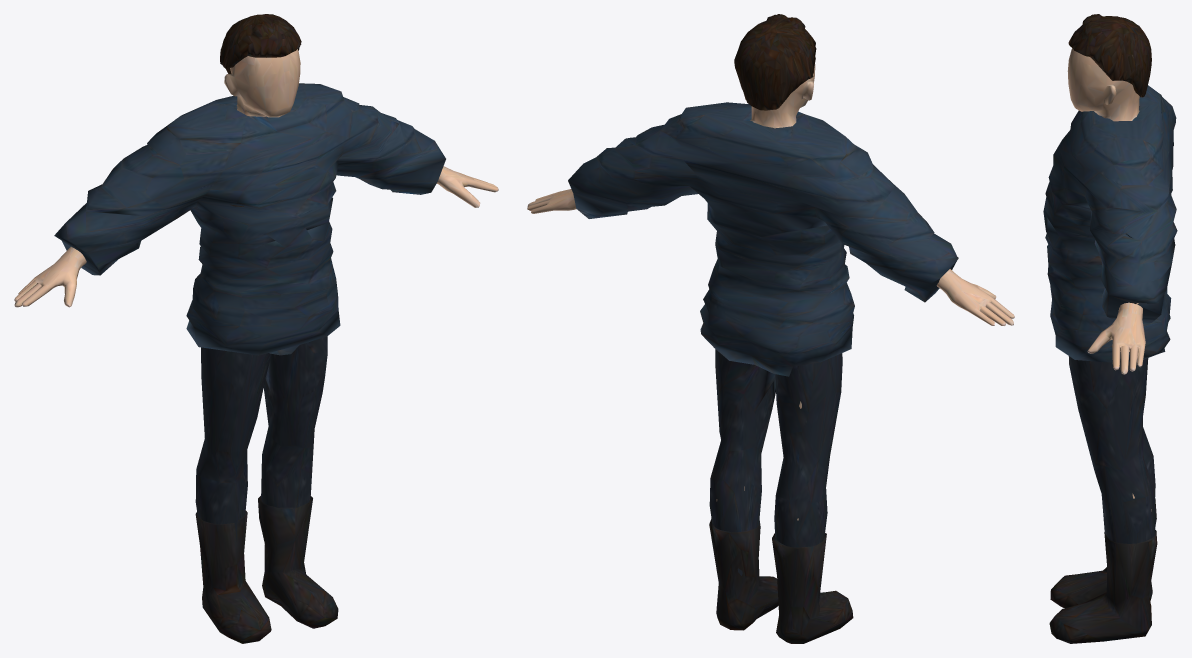
Rendered from npc_x_hero.glb.
3 views of the same model, side by side, from view 1: azimuth 30°, elevation 25°; view 2: azimuth 150°, elevation 25°; view 3: azimuth 270°, elevation 25° (orthographic).
Visible parts, largest first — view 1: Human; view 2: Human; view 3: Human.
Boxes of the visible parts, <box> form: Human: <box>14,14,498,643</box>; Human: <box>527,14,1014,643</box>; Human: <box>1043,14,1177,643</box>.
Bounding box in the file's own units: 1.54 × 1.83 × 0.3683.
1 material, 1 textured.
